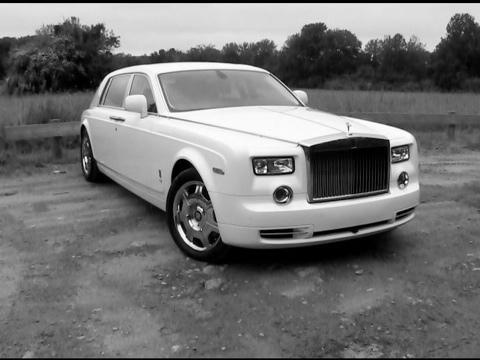car: (70, 45, 436, 271)
